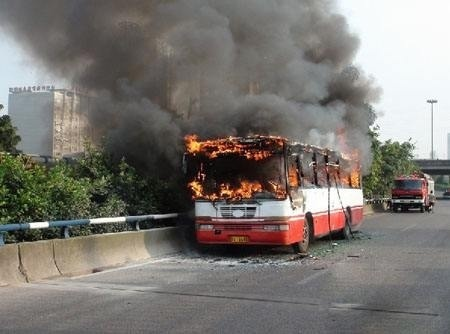fire: (180, 128, 368, 201)
